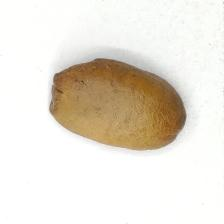NG: (49, 57, 100, 112)
